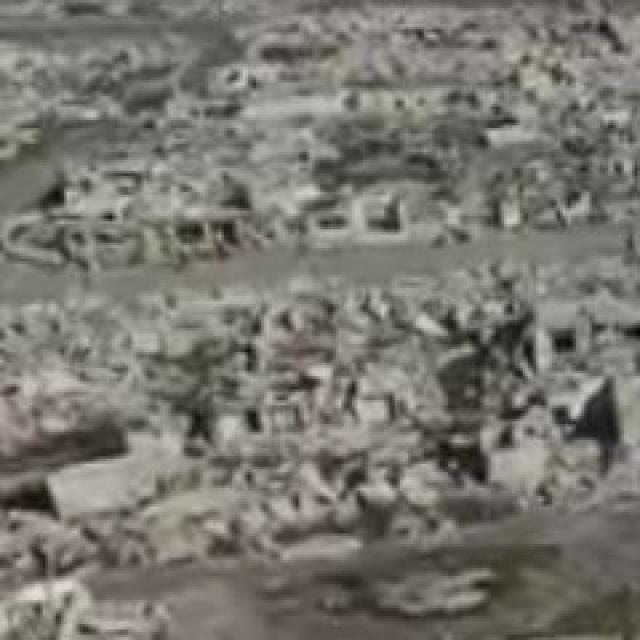collapsed_building: (0, 306, 637, 528), (83, 56, 637, 237)
